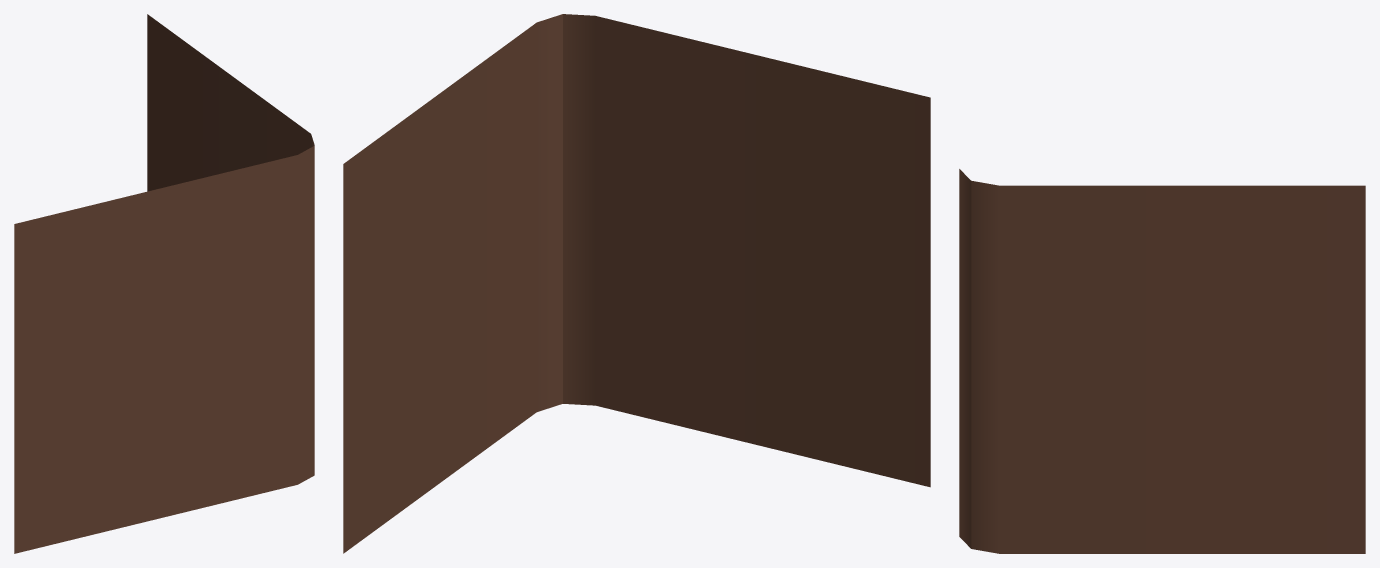
The model's file is PlataformasEsquina_izq.fbx.
3 views of the same model, side by side, from view 1: azimuth 30°, elevation 25°; view 2: azimuth 150°, elevation 25°; view 3: azimuth 270°, elevation 25° (orthographic). The views are drawn at different scales.
Visible parts, largest first — view 1: Esquina_izq; view 2: Esquina_izq; view 3: Esquina_izq.
Boxes of the visible parts, x1,y1,x2,y2 form: Esquina_izq: (14,14,314,553); Esquina_izq: (343,14,930,553); Esquina_izq: (959,169,1365,553).
Size of the model in its own units: 100 by 100 by 100.
